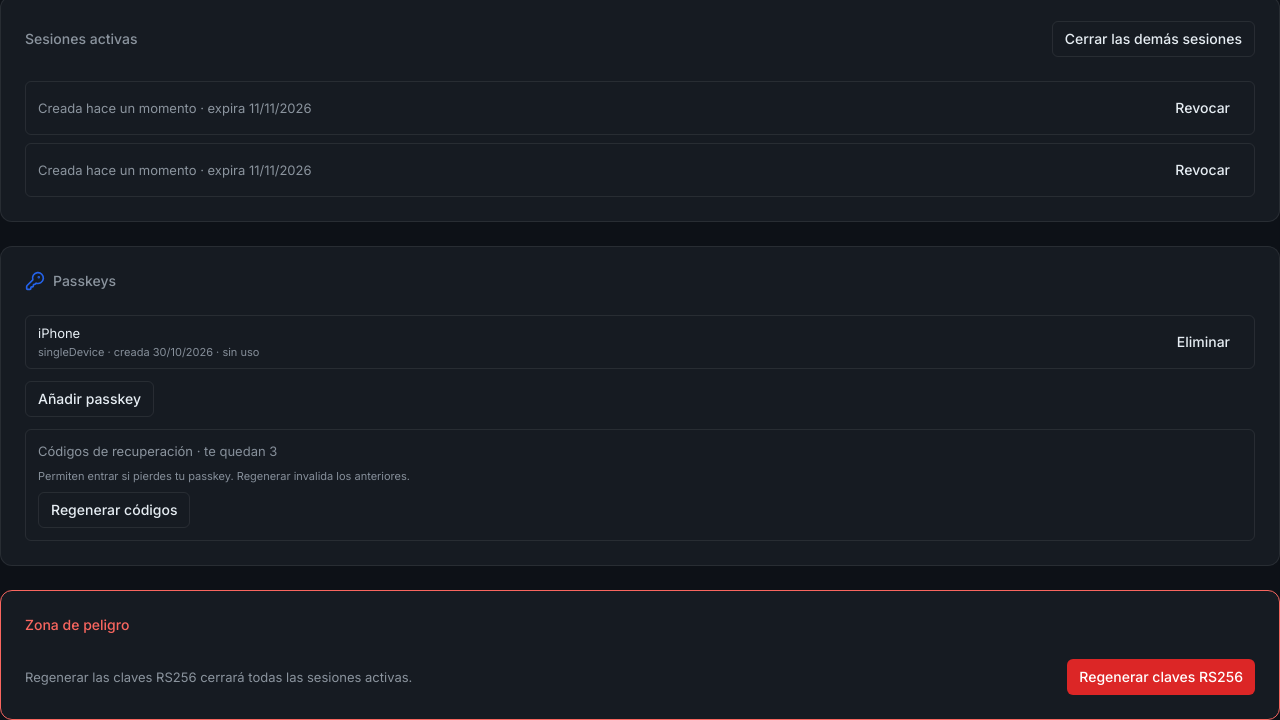
SecuritySection › regenera los códigos de recuperación y los muestra una sola vez (US-59)
This screenshot has width=1280, height=720.
(page scrolled)
Click the button "Regenerar códigos" at {"x": 114, "y": 510}, box [38, 492, 190, 528]
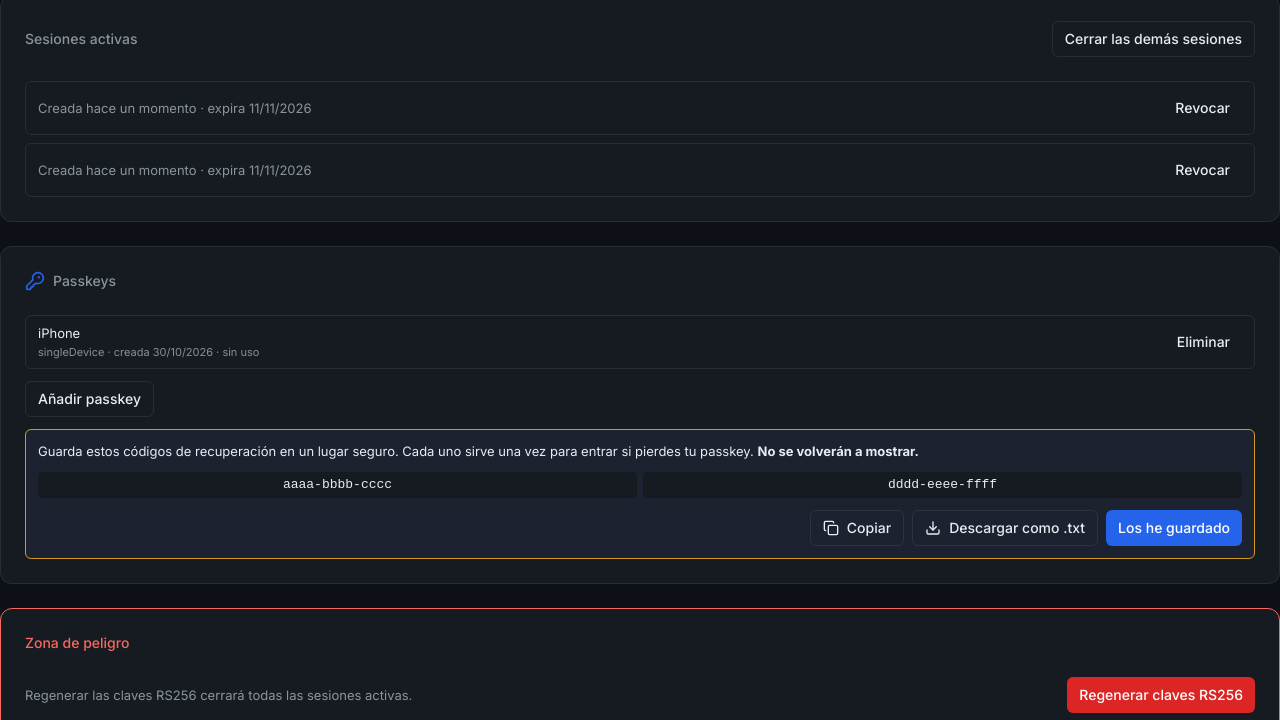
Check: the list item "aaaa-bbbb-cccc" is shown, box [38, 472, 637, 498]
Check: the list item "dddd-eeee-ffff" is shown, box [643, 472, 1242, 498]
